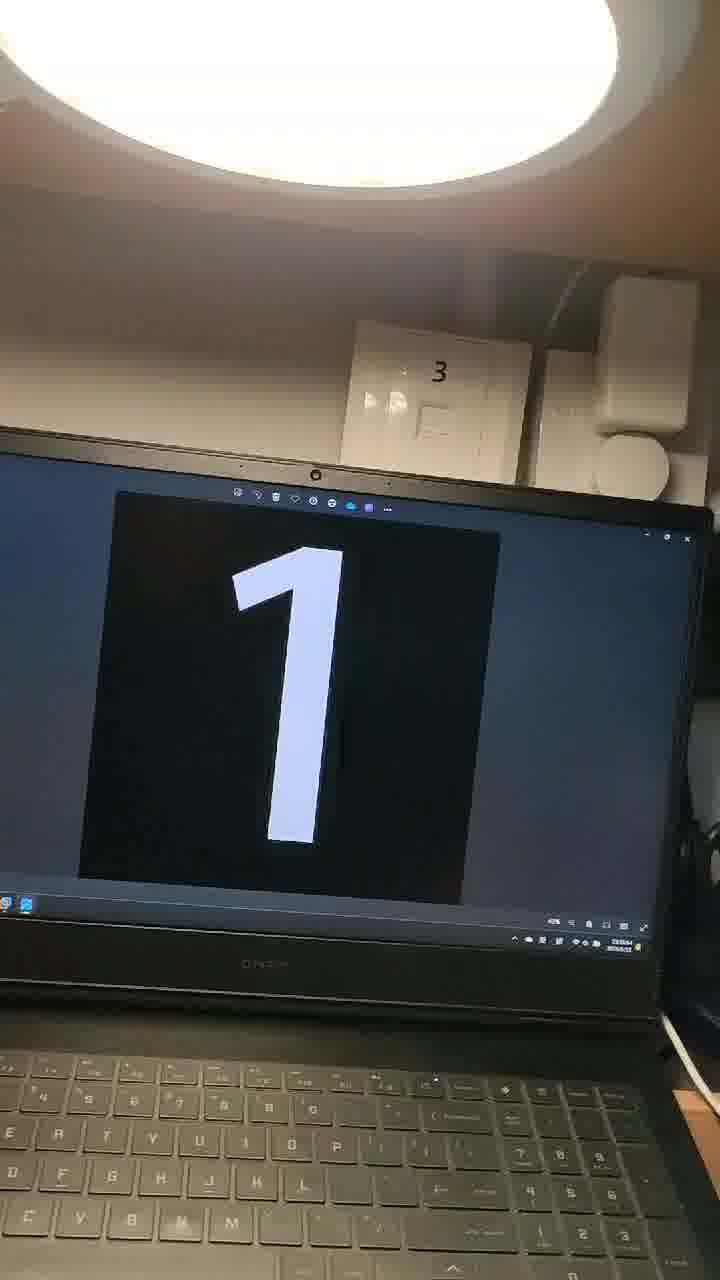one: (196, 505, 370, 879)
